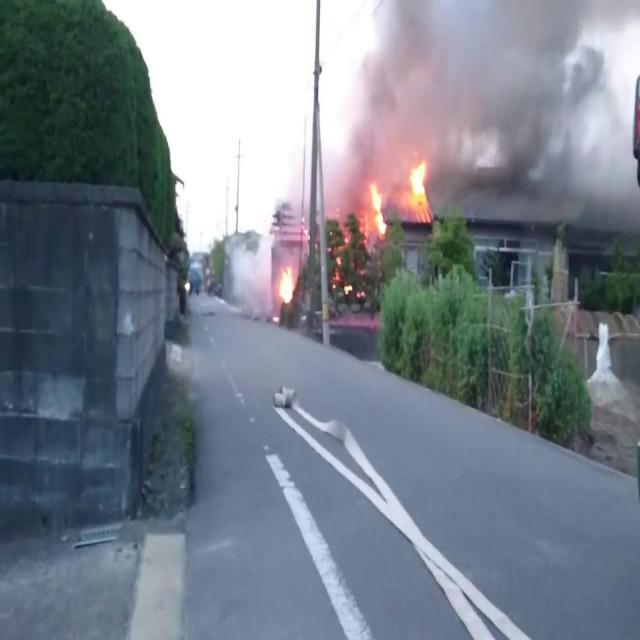Fire: (369, 184, 389, 234), (410, 154, 430, 196), (279, 267, 294, 304)
